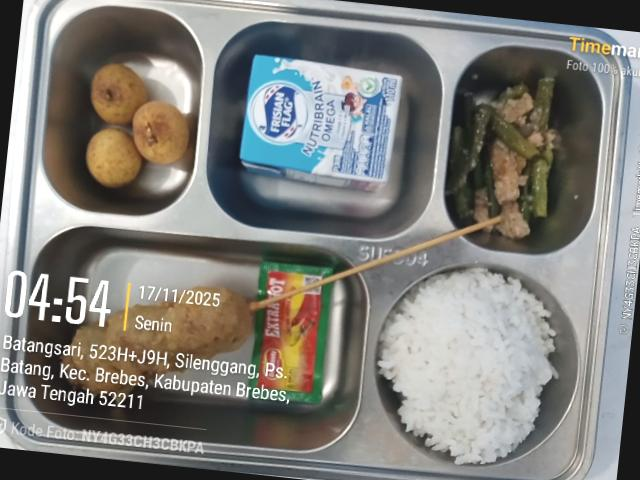ayam: (62, 286, 254, 394)
buah: (86, 64, 190, 187)
nasi: (378, 268, 557, 464)
sayur: (530, 77, 555, 132)
susu: (240, 55, 403, 191)
tempe: (490, 140, 519, 205)
